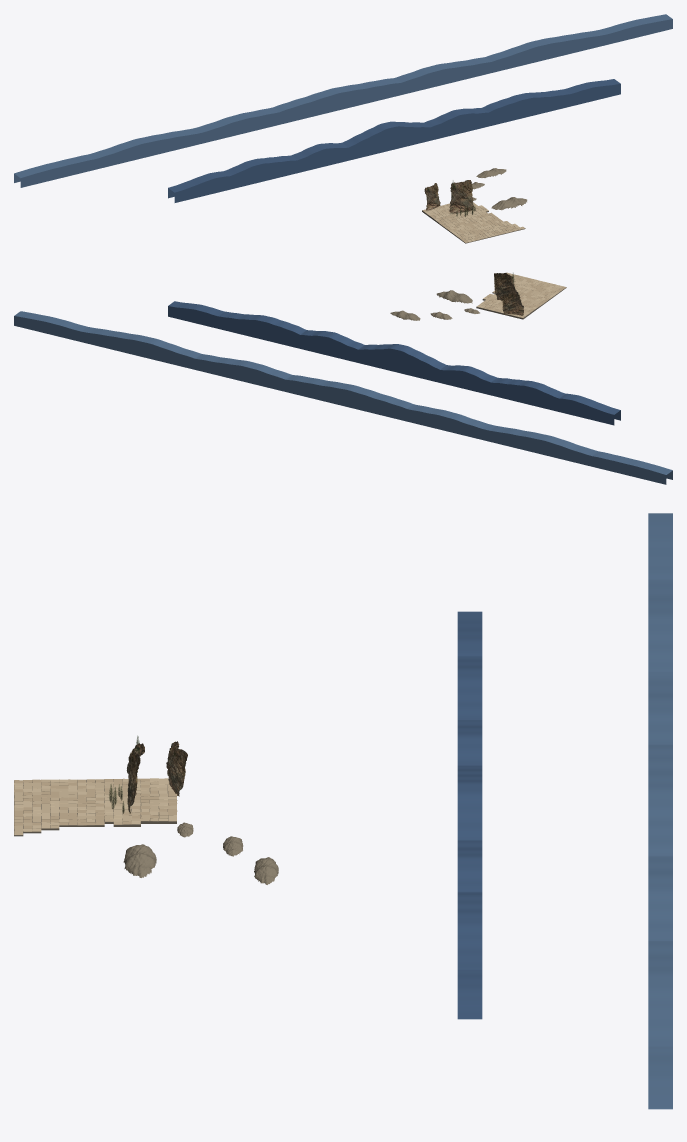
3 renders of one model, top to bottom at view 1: azimuth 30°, elevation 25°; view 2: azimuth 150°, elevation 25°; view 3: azimuth 270°, elevation 25°, orthographic. The views are drawn at different scales.
Parts seen in each view (by area): view 1: W_SM_Far_Haze_Ridge_V2, W_SM_Distant_Mountain_Range_V2, W_SM_Broad_Limestone_Terrace_V2, W_SM_Mountainside_CC0_Hero; view 2: W_SM_Far_Haze_Ridge_V2, W_SM_Distant_Mountain_Range_V2, W_SM_Broad_Limestone_Terrace_V2, W_SM_Mountainside_CC0_Hero, W_SM_Mountainside_CC0_Left_Ridge; view 3: W_SM_Far_Haze_Ridge_V2, W_SM_Distant_Mountain_Range_V2, W_SM_Broad_Limestone_Terrace_V2.
Boxes of the visible parts, x1,y1,x2,y2 form: W_SM_Far_Haze_Ridge_V2: [14, 14, 672, 187]; W_SM_Distant_Mountain_Range_V2: [168, 79, 620, 202]; W_SM_Broad_Limestone_Terrace_V2: [422, 202, 525, 242]; W_SM_Mountainside_CC0_Hero: [449, 180, 473, 213]; W_SM_Far_Haze_Ridge_V2: [14, 311, 672, 484]; W_SM_Distant_Mountain_Range_V2: [168, 301, 620, 425]; W_SM_Broad_Limestone_Terrace_V2: [476, 272, 566, 317]; W_SM_Mountainside_CC0_Hero: [494, 273, 518, 300]; W_SM_Mountainside_CC0_Left_Ridge: [502, 292, 523, 315]; W_SM_Far_Haze_Ridge_V2: [648, 513, 672, 1109]; W_SM_Distant_Mountain_Range_V2: [457, 611, 482, 1019]; W_SM_Broad_Limestone_Terrace_V2: [14, 778, 177, 834].
Size of the model in its own units: 1368 by 79.98 by 639.
10 materials, 3 textured.
